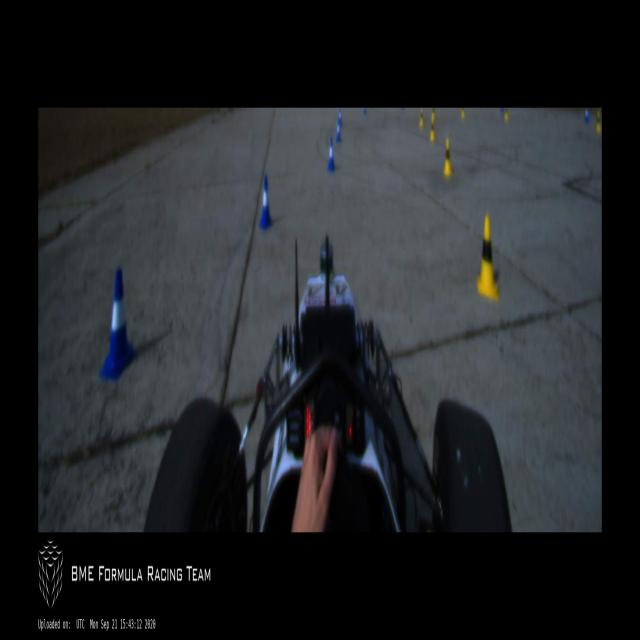blue_cone: (100, 269, 136, 383), (259, 177, 273, 232), (327, 137, 335, 174), (335, 119, 341, 143), (338, 108, 342, 126), (584, 109, 589, 123)
yellow_cone: (476, 214, 498, 301), (444, 137, 452, 177), (595, 109, 601, 134), (430, 116, 435, 142), (419, 108, 424, 129), (460, 108, 465, 119), (431, 108, 435, 120), (504, 108, 508, 120)
